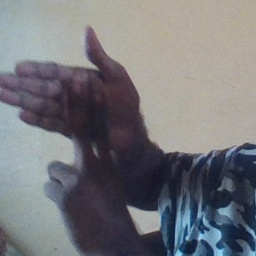N: (2, 21, 146, 196)
